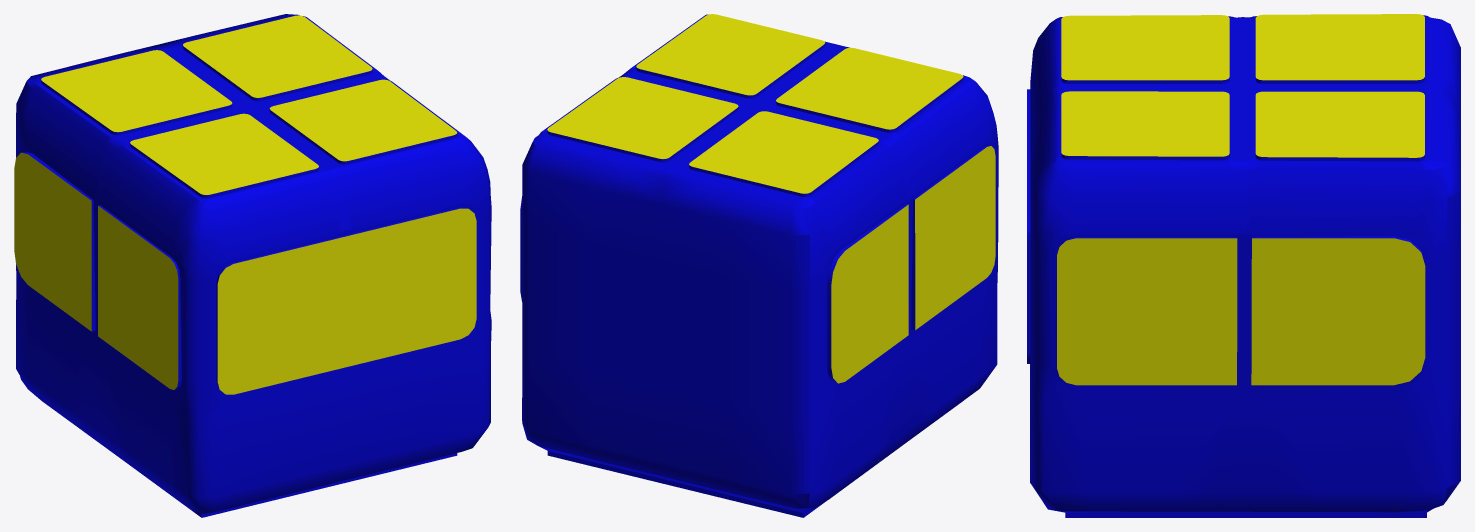
The model's file is LB_Cockpit_Low.fbx.
The picture shows the model from 3 angles, left to right: view 1: azimuth 30°, elevation 25°; view 2: azimuth 150°, elevation 25°; view 3: azimuth 270°, elevation 25°; orthographic projection. The views are drawn at different scales.
Visible parts, largest first — view 1: Wall, Glass_In; view 2: Wall, Glass_In; view 3: Wall, Glass_In.
Part boxes in pixels (box(x1,y1,x2,y2)): Wall: box(16, 14, 491, 517); Glass_In: box(14, 15, 476, 394); Wall: box(520, 14, 998, 517); Glass_In: box(547, 14, 995, 383); Wall: box(1027, 15, 1460, 517); Glass_In: box(1057, 14, 1425, 385).
Size of the model in its own units: 62.1 by 62.11 by 66.9.
